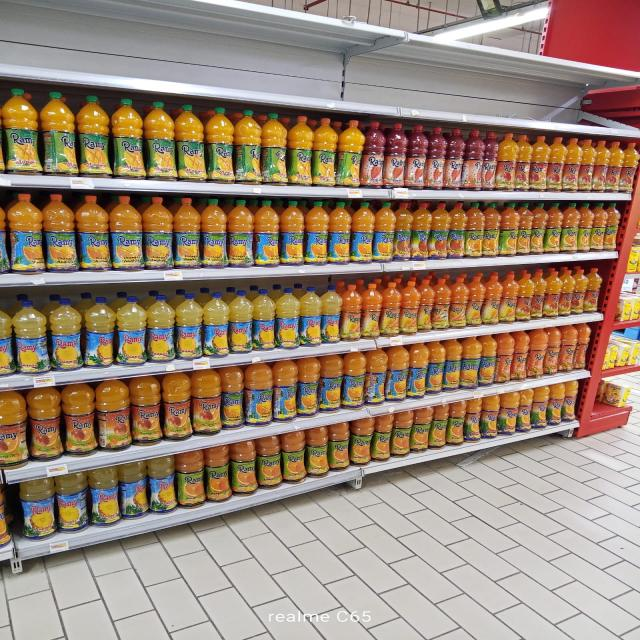ramy_plastique: (40, 91, 78, 176), (5, 84, 41, 173), (7, 193, 44, 276), (76, 94, 112, 178), (25, 385, 63, 463), (12, 298, 50, 375), (42, 194, 78, 274), (61, 382, 98, 458), (75, 194, 111, 272), (94, 378, 131, 452), (111, 98, 144, 180), (144, 100, 177, 181), (48, 298, 83, 373), (109, 195, 142, 272), (128, 374, 163, 446), (0, 389, 30, 470), (174, 104, 205, 182), (83, 298, 116, 370), (142, 196, 173, 272), (18, 478, 56, 539), (204, 106, 234, 183), (116, 296, 148, 366), (85, 466, 121, 528), (52, 471, 88, 533), (189, 368, 221, 437), (233, 108, 262, 184), (172, 198, 202, 270), (161, 372, 192, 440), (146, 294, 176, 364), (200, 198, 228, 270), (117, 460, 150, 521), (174, 293, 203, 362), (261, 111, 288, 185), (287, 114, 314, 186), (244, 361, 273, 427), (226, 199, 254, 267), (175, 448, 206, 508), (202, 292, 230, 358), (218, 365, 246, 431), (312, 116, 338, 187), (337, 120, 364, 188), (227, 290, 254, 356), (146, 456, 176, 515), (254, 200, 280, 267), (202, 444, 232, 502), (280, 201, 306, 266), (272, 358, 298, 423), (361, 121, 386, 188), (229, 439, 258, 496), (296, 356, 322, 418), (327, 202, 352, 265), (252, 289, 277, 352), (384, 123, 408, 188), (318, 354, 344, 414), (275, 288, 300, 350), (350, 202, 375, 264), (255, 434, 282, 490), (298, 287, 323, 347), (364, 347, 389, 407), (280, 430, 307, 485), (342, 350, 366, 411), (386, 344, 410, 403), (424, 126, 446, 190), (319, 284, 343, 342), (373, 202, 396, 262), (340, 284, 364, 341), (443, 126, 464, 190), (463, 130, 485, 191), (304, 426, 329, 479), (394, 201, 416, 261), (407, 342, 430, 398), (380, 280, 402, 337), (349, 417, 374, 467), (326, 422, 351, 472), (464, 203, 486, 259), (496, 133, 517, 191), (425, 341, 447, 396), (447, 201, 468, 258), (460, 336, 482, 389), (514, 134, 534, 192), (562, 137, 582, 192), (443, 338, 463, 393), (494, 332, 515, 384), (499, 202, 519, 256), (449, 275, 469, 329), (432, 277, 452, 331), (544, 201, 564, 254), (392, 410, 414, 458), (531, 136, 550, 191), (483, 273, 503, 325), (516, 270, 536, 322), (498, 390, 520, 436), (528, 328, 548, 378), (548, 137, 566, 192), (530, 202, 549, 254), (558, 323, 578, 372), (578, 138, 596, 192), (517, 202, 535, 256), (411, 407, 432, 453), (592, 140, 610, 193), (576, 201, 594, 254), (620, 142, 639, 192), (480, 394, 501, 438), (447, 400, 467, 446), (430, 403, 450, 449), (558, 265, 576, 316), (502, 273, 520, 324), (530, 385, 550, 430), (604, 202, 621, 252), (574, 322, 592, 369), (547, 382, 566, 426), (464, 397, 483, 441), (585, 266, 603, 310), (572, 264, 588, 313), (562, 379, 580, 420), (74, 294, 97, 325), (40, 294, 62, 322), (109, 292, 130, 318)
